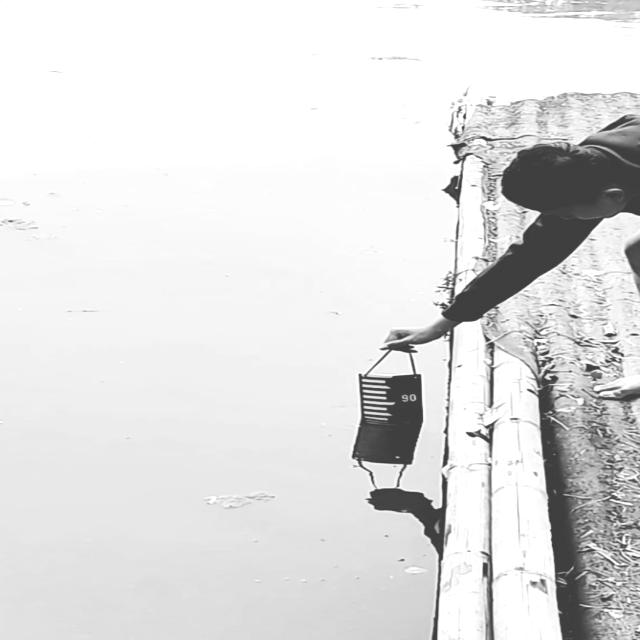90: (401, 392, 418, 403)
staff: (358, 374, 426, 423)
